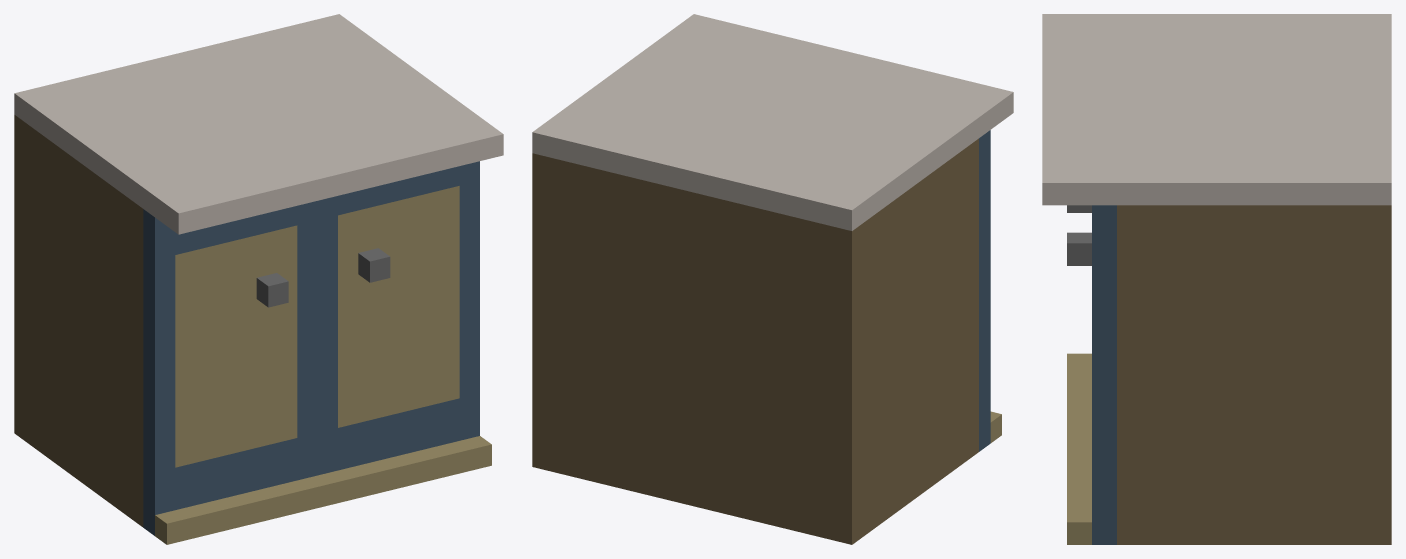
Rendered from CounterCupboard2.obj.
The picture shows the model from 3 angles, left to right: view 1: azimuth 30°, elevation 25°; view 2: azimuth 150°, elevation 25°; view 3: azimuth 270°, elevation 25°; orthographic projection. The views are drawn at different scales.
Parts seen in each view (by area): view 1: CounterCupboard2; view 2: CounterCupboard2; view 3: CounterCupboard2.
Part boxes in pixels (x1,y1,x2,y2): CounterCupboard2: [14, 14, 503, 544]; CounterCupboard2: [532, 14, 1013, 544]; CounterCupboard2: [1042, 14, 1391, 544].
Size of the model in its own units: 16 by 16 by 14.
1 material, 1 textured.
